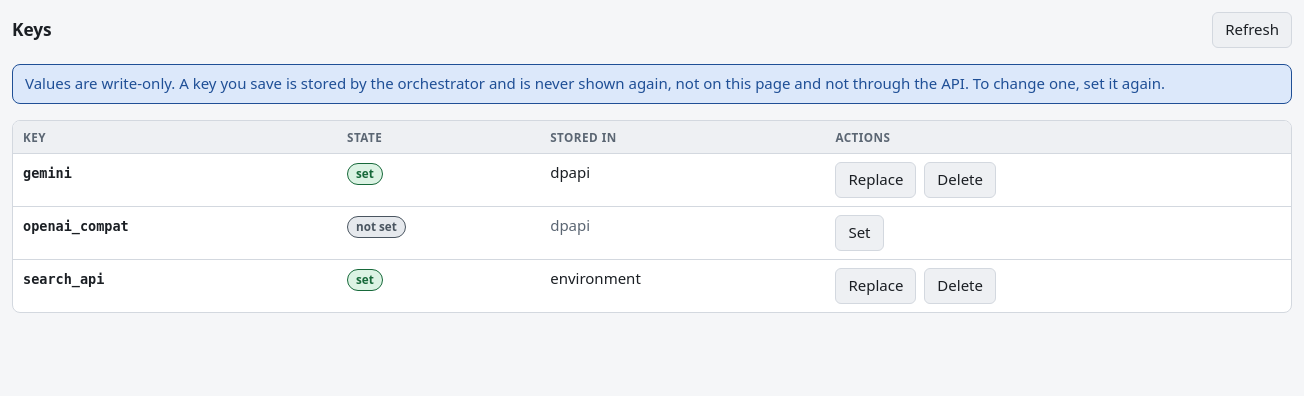
Test: setting a key › sends exactly what was typed, then shows the new state and no trace of the value
Expected: the text "gemini" is shown, [23, 166, 72, 182]
Click the button "Set". click: point(859, 233)
box: [835, 215, 884, 251]
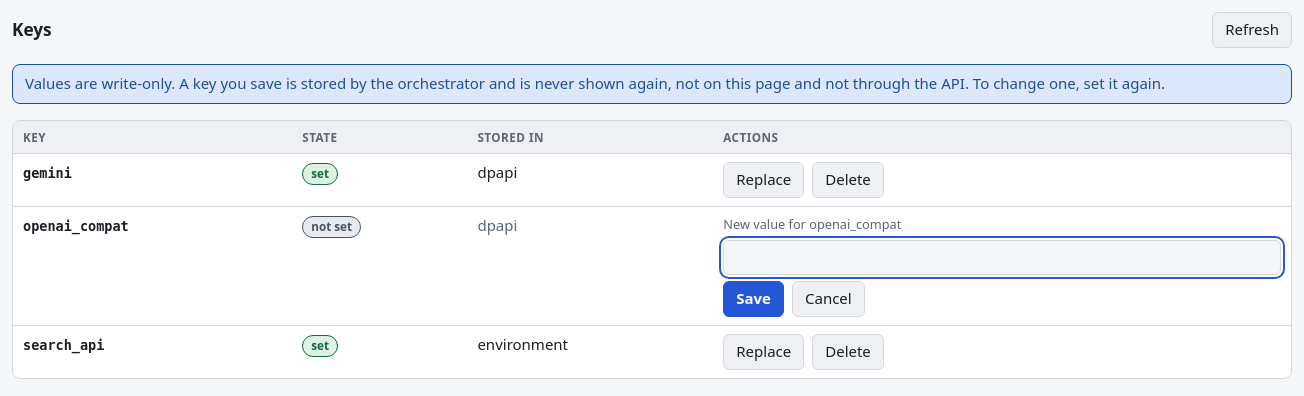
Type "test-secret-123" into the password field labelled "New value for openai_compat". click: point(1002, 258)
box: [723, 240, 1281, 276]
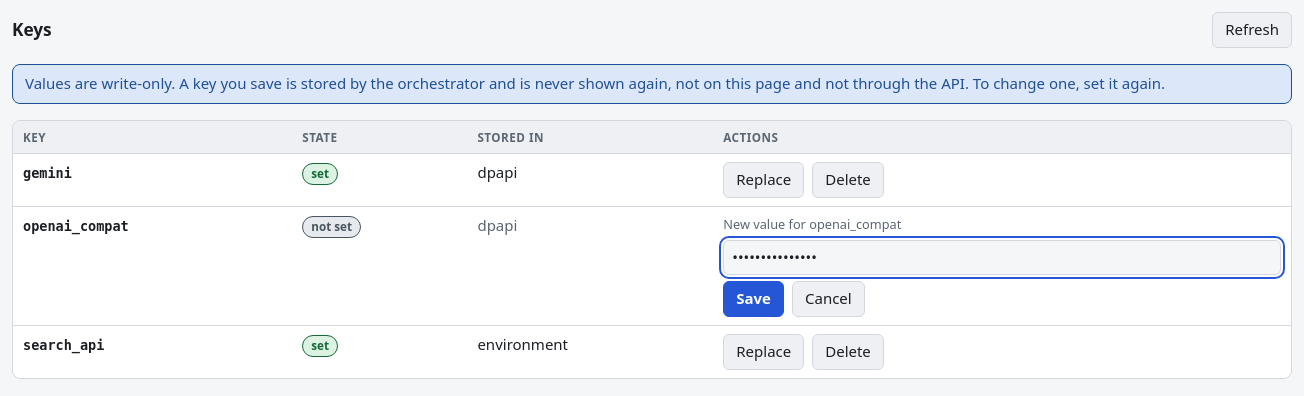
Submit the form, box [723, 215, 1281, 317]
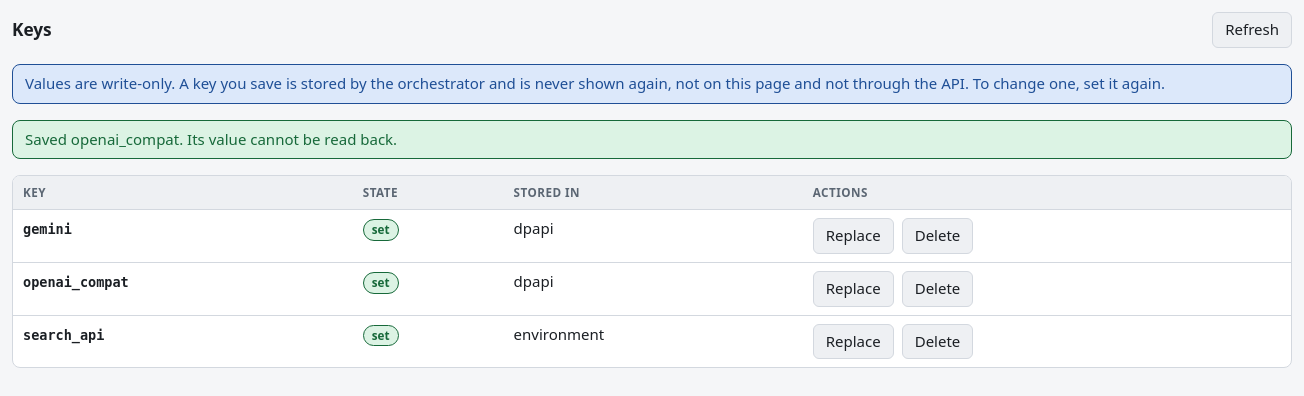
Expected: the 2nd text "set" is shown, [363, 272, 399, 294]
Now the text "Saved openai_compat. Its value cannot be read back." is shown, box [12, 120, 1292, 159]
Now the label labelled "New value for openai_compat" is gone
